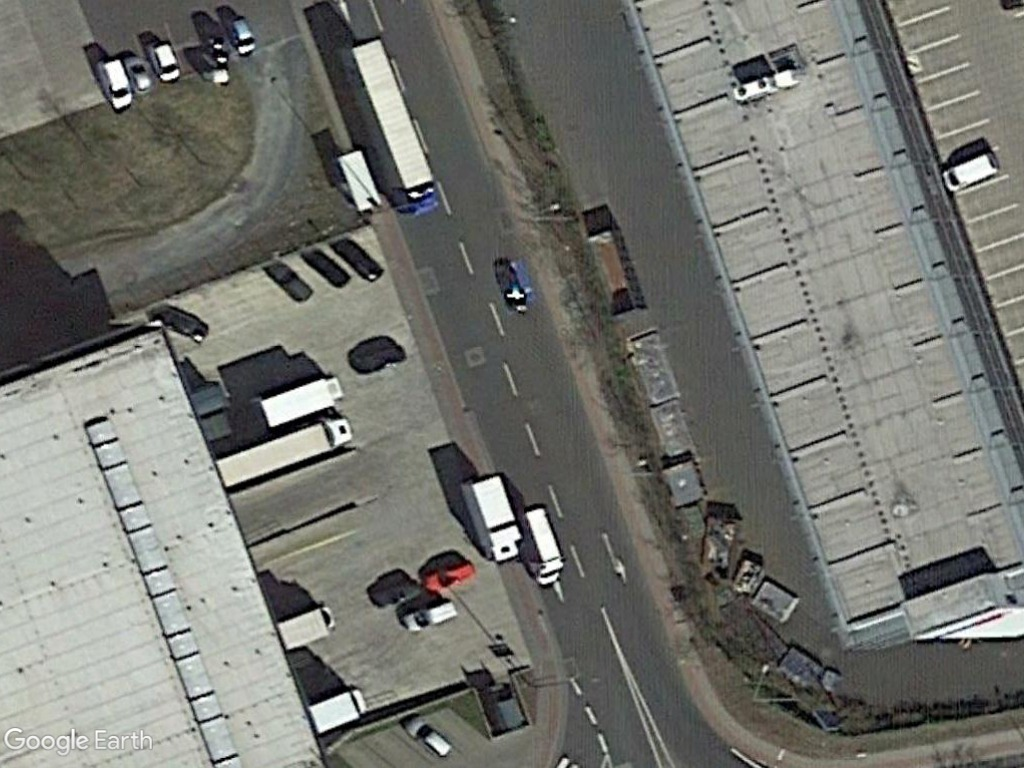car: (395, 708, 455, 768), (144, 39, 184, 87)
longvehicle: (339, 37, 443, 218), (214, 411, 354, 494)
truck: (461, 471, 524, 565), (256, 372, 343, 431), (514, 499, 570, 589), (271, 602, 338, 654), (305, 684, 370, 735)
van: (941, 144, 1001, 191), (395, 596, 460, 636), (95, 57, 135, 116)
